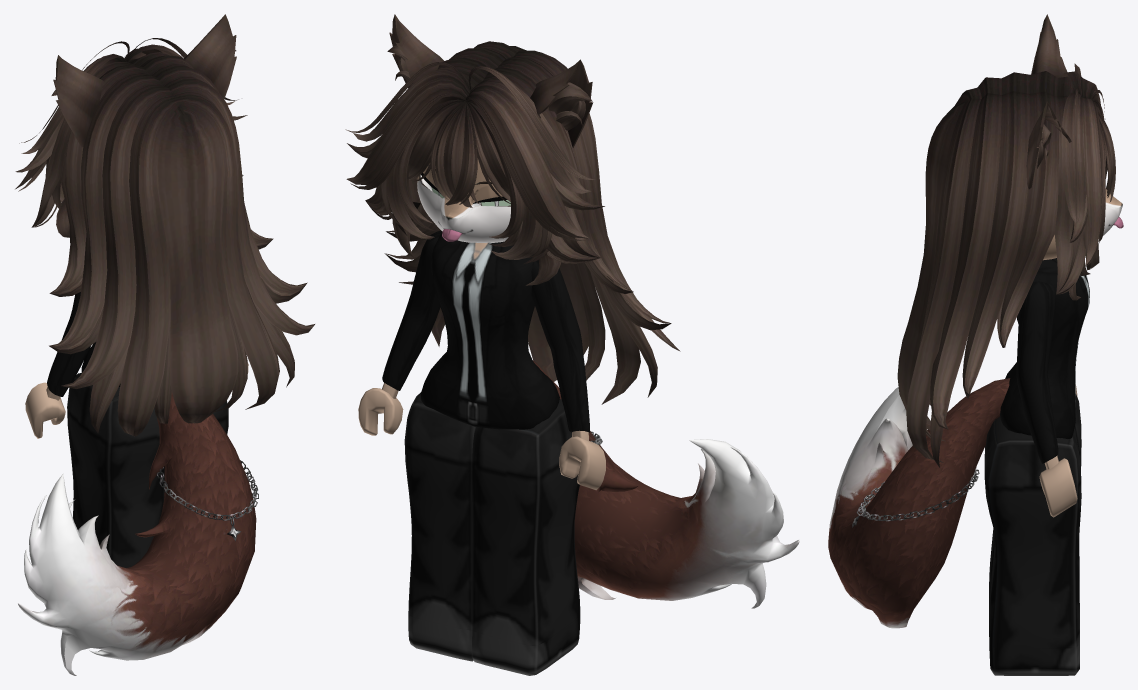
File: ref_avatar_1.glb
3 renders of one model, left to right at view 1: azimuth 30°, elevation 25°; view 2: azimuth 150°, elevation 25°; view 3: azimuth 270°, elevation 25°, orthographic. The views are drawn at different scales.
Visible parts, largest first — view 1: NC_type4_0; view 2: NC_type4_0; view 3: NC_type4_0.
Part boxes in pixels (bbox=[...]): NC_type4_0: bbox=[15, 14, 314, 675]; NC_type4_0: bbox=[345, 14, 799, 675]; NC_type4_0: bbox=[828, 14, 1123, 675].
Size of the model in its own units: 3.4 by 5.41 by 2.45.
Materials: 4 (4 with a texture image).
